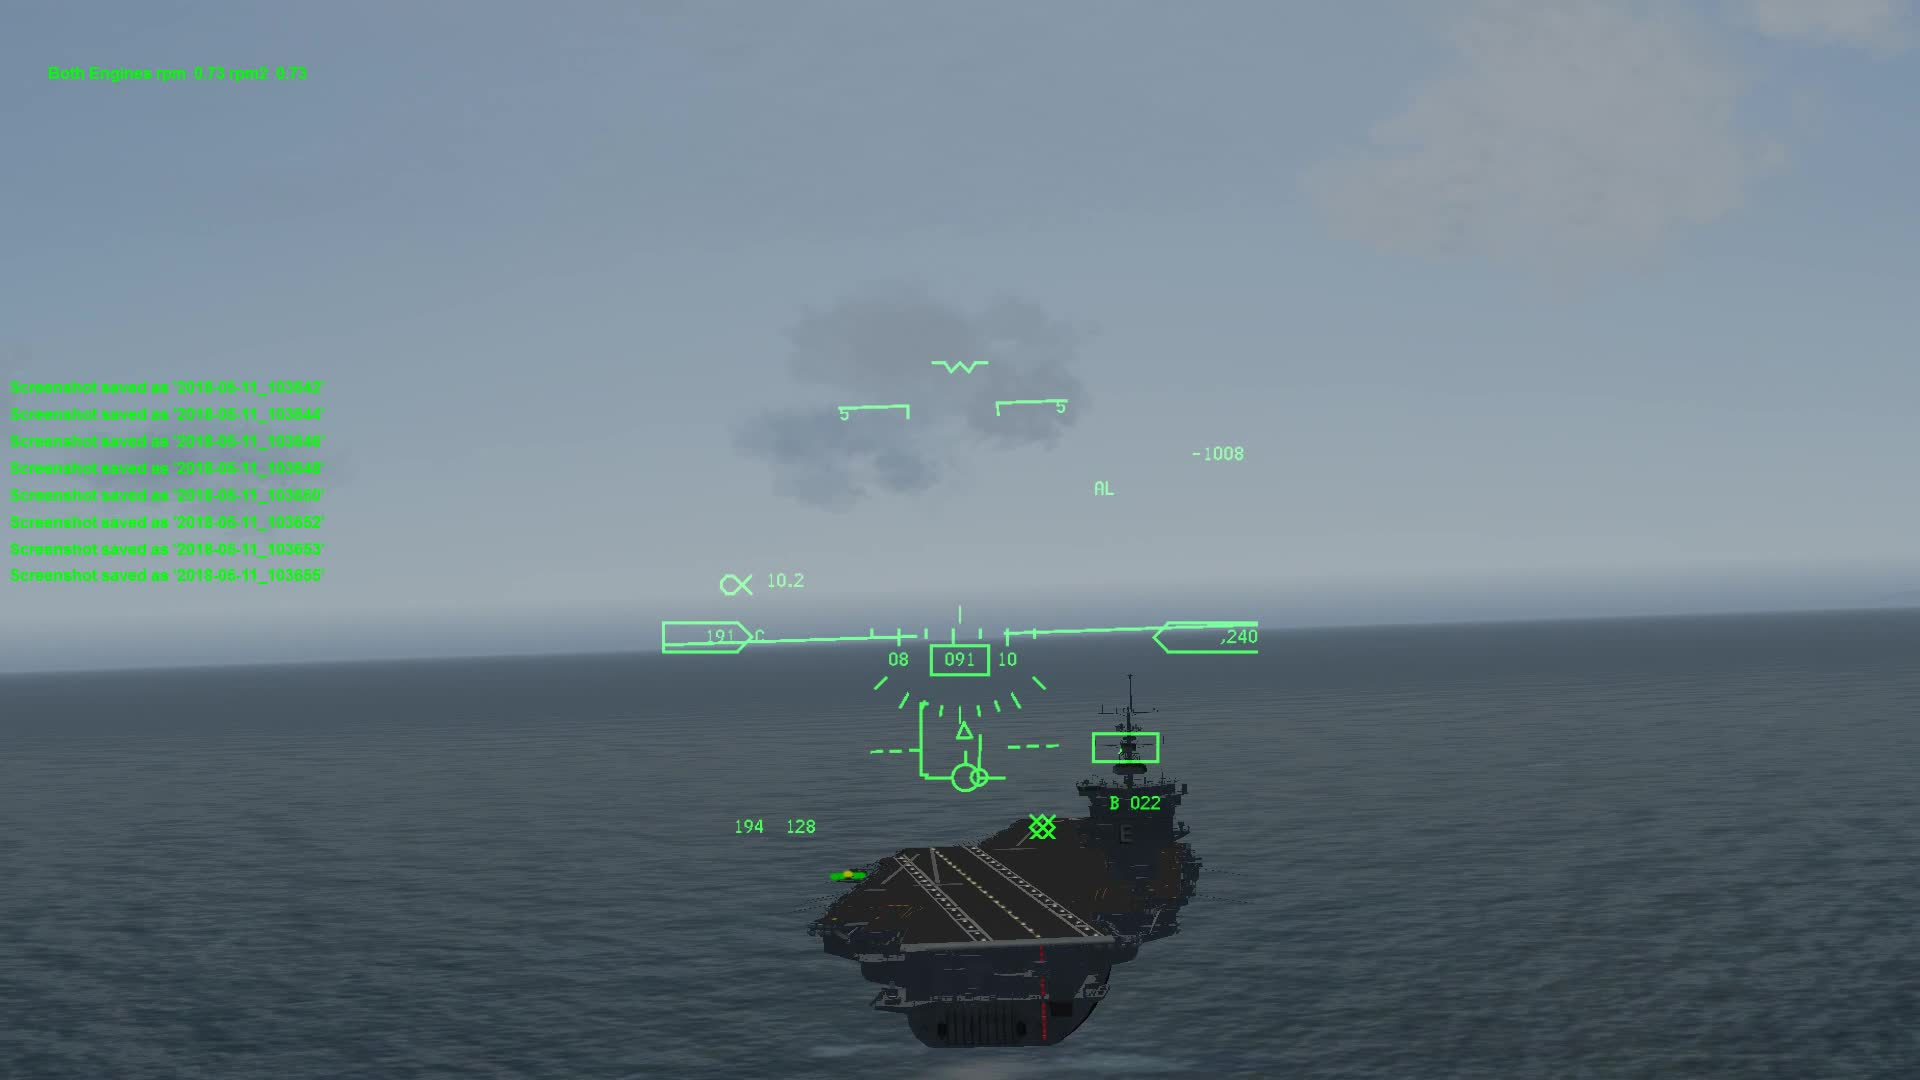speed vector: (916, 738, 1007, 800)
